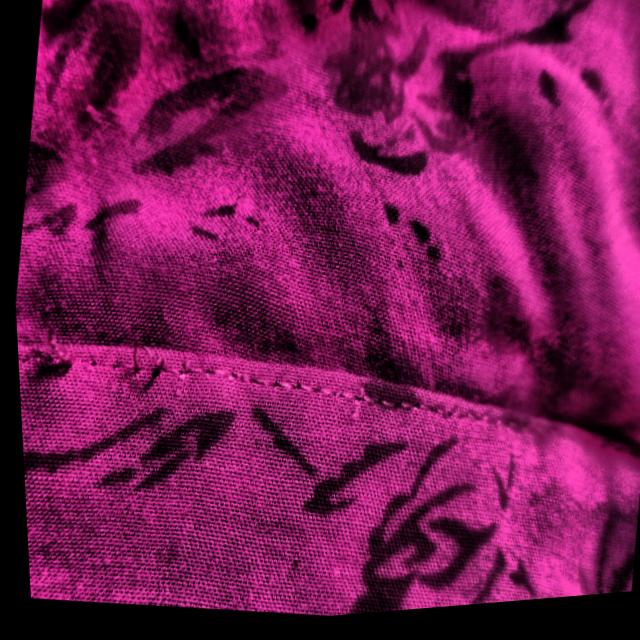Stitch: (92, 270, 202, 420), (10, 252, 93, 412)
